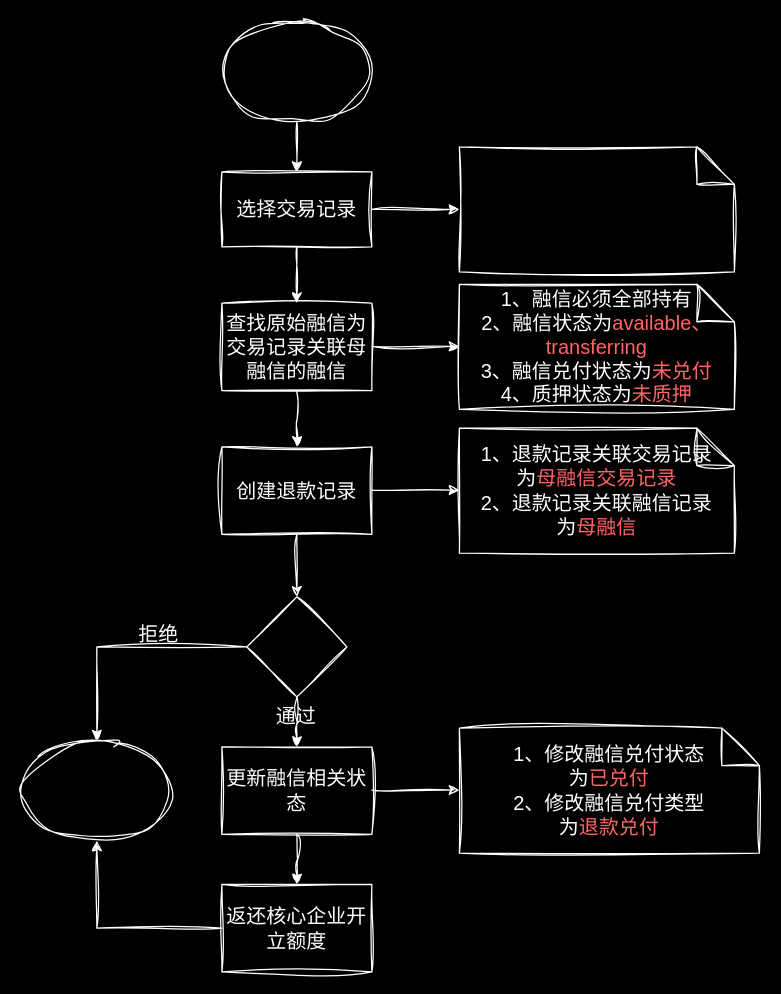
This 781x994 diagram has some shape labels left out. The centre of each missing label's shape, as x and y in pixels:
发起退款: [296,71]
审核: [296,646]
核心企业 开立的交易记录: [596,209]
流程结束: [96,790]
